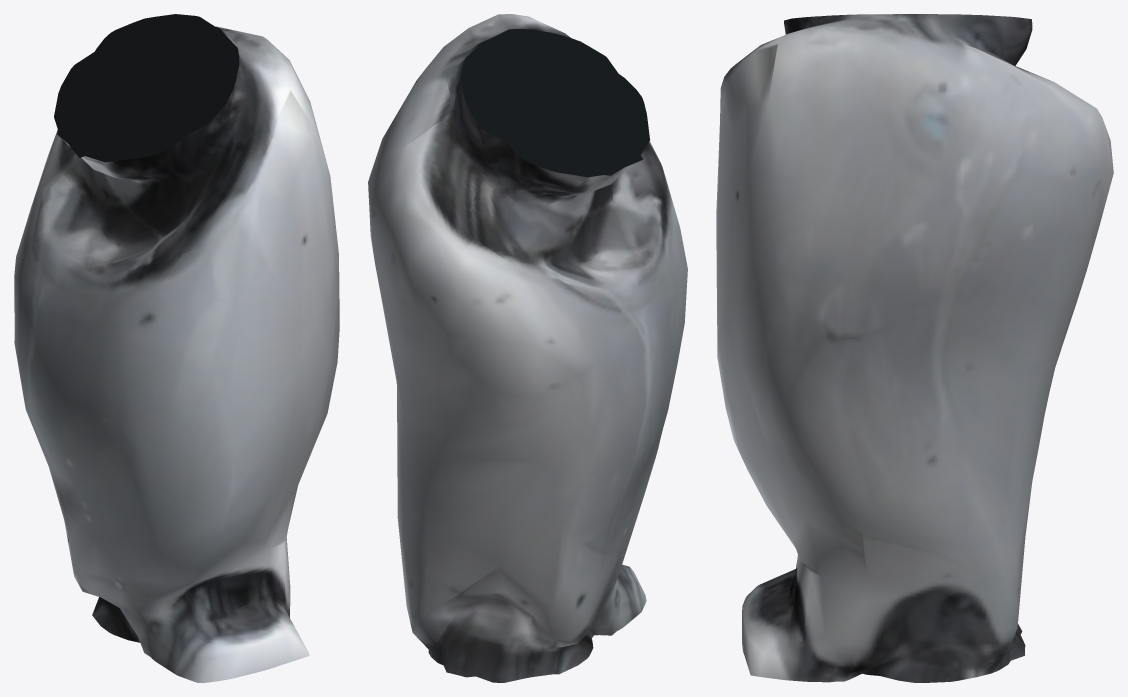
File: left_thigh.obj
3 renders of one model, left to right at view 1: azimuth 30°, elevation 25°; view 2: azimuth 150°, elevation 25°; view 3: azimuth 270°, elevation 25°, orthographic. The views are drawn at different scales.
Parts seen in each view (by area): view 1: left_thigh; view 2: left_thigh; view 3: left_thigh.
Part boxes in pixels (x1=…): left_thigh: x1=14, y1=14, x2=339, y2=682; left_thigh: x1=368, y1=14, x2=687, y2=682; left_thigh: x1=716, y1=14, x2=1113, y2=682.
Size of the model in its own units: 0.2206 by 0.4696 by 0.26.
Materials: 2 (1 with a texture image).
